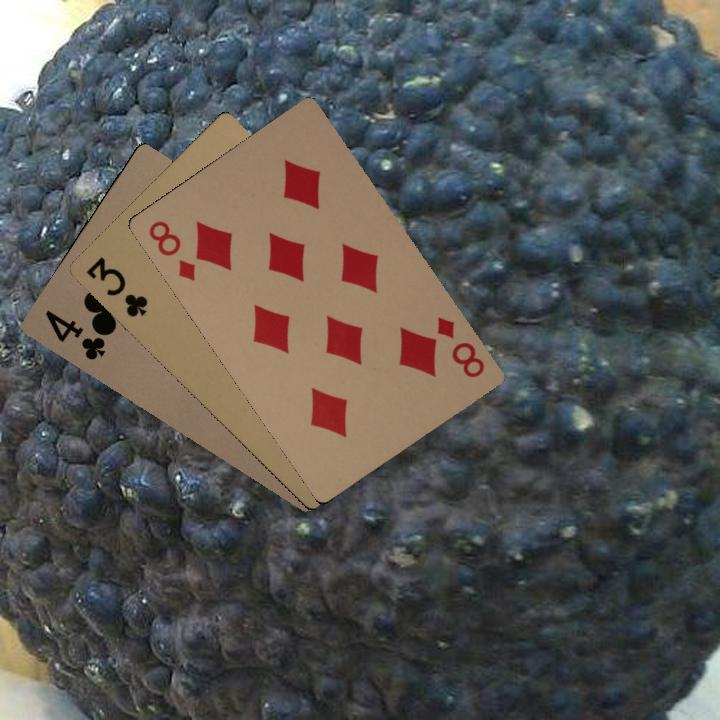3c: (82, 252, 151, 320)
4c: (41, 306, 108, 363)
8d: (432, 312, 488, 381), (144, 216, 199, 284)
